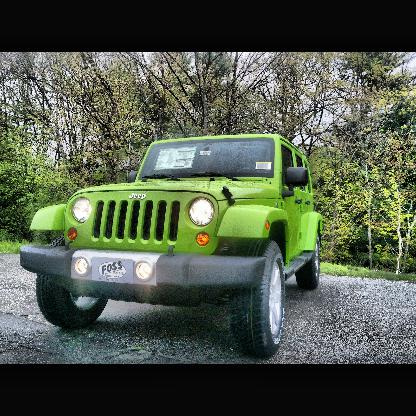Jeep Wrangler SUV 2012: (26, 132, 327, 359)
